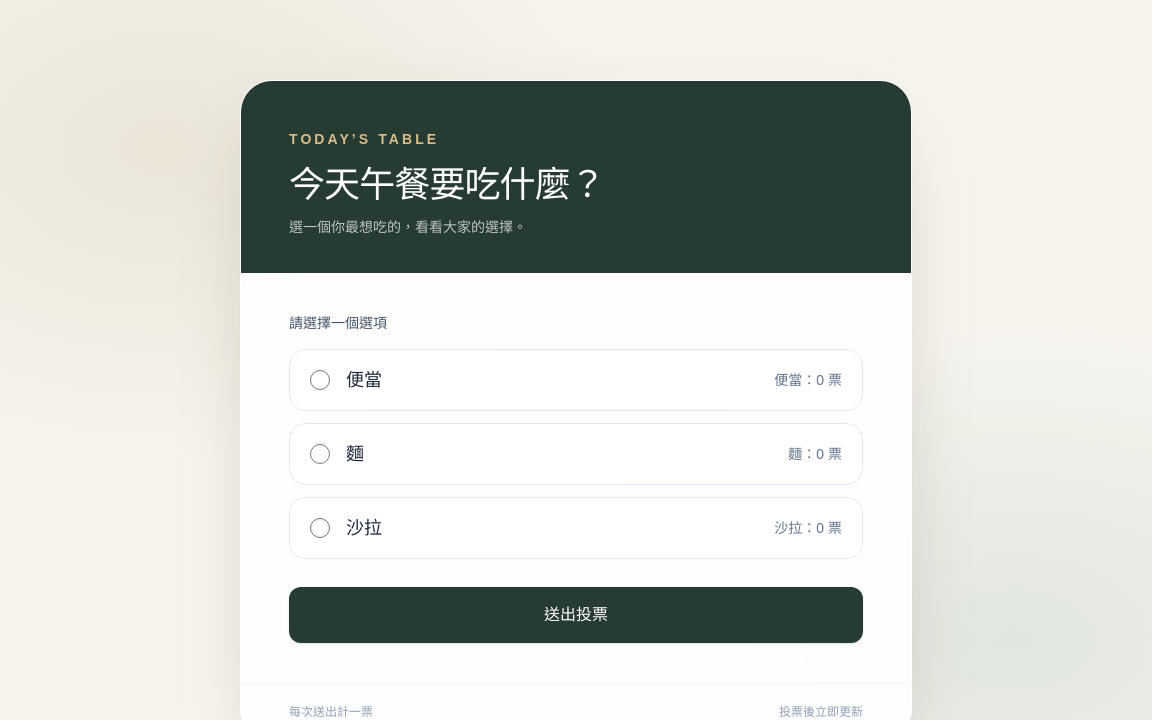
Test: poll input validation › rejects an empty submission without sending it and clears the error on recovery
Expected: the radio button labelled "便當 便當：0 票" is shown, [310,370,330,390]
Click the button "送出投票". click: (576, 615)
box: [289,587,863,643]
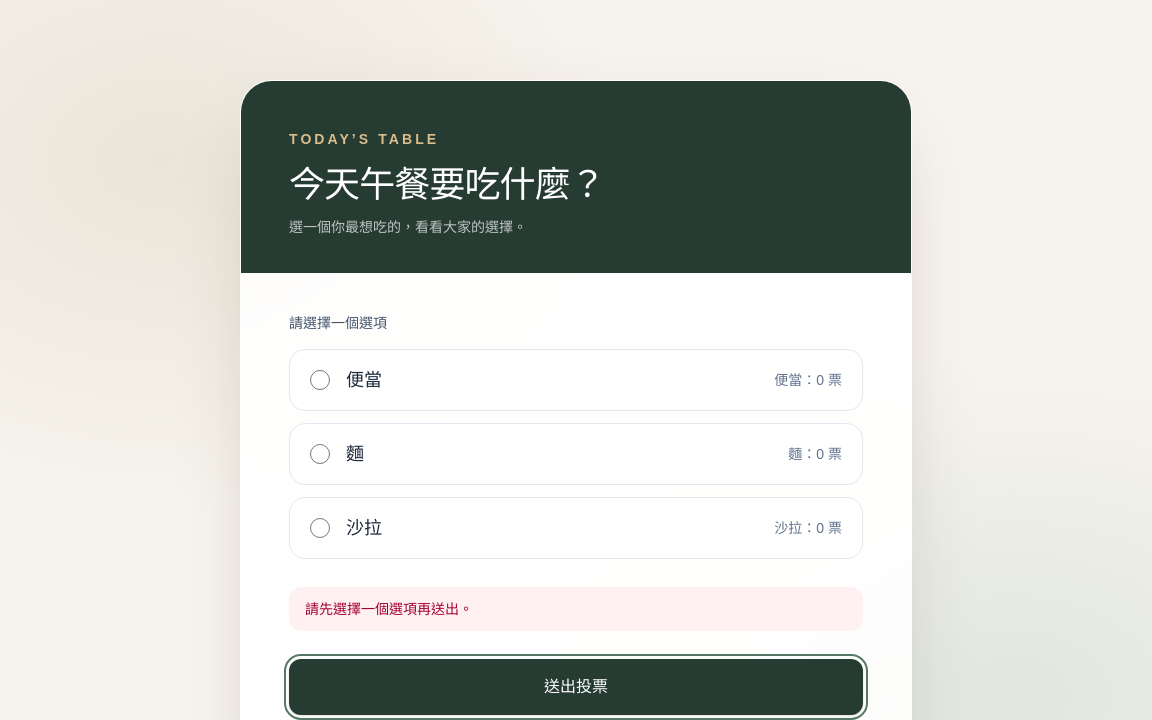
Expected: the text "便當：0 票" is shown, [774,370,842,390]
Expected: the message reads "請先選擇一個選項再送出。", [305,601,473,617]
Click the radio button labelled "便當 便當：0 票". click: (320, 380)
box: [310,370,330,390]
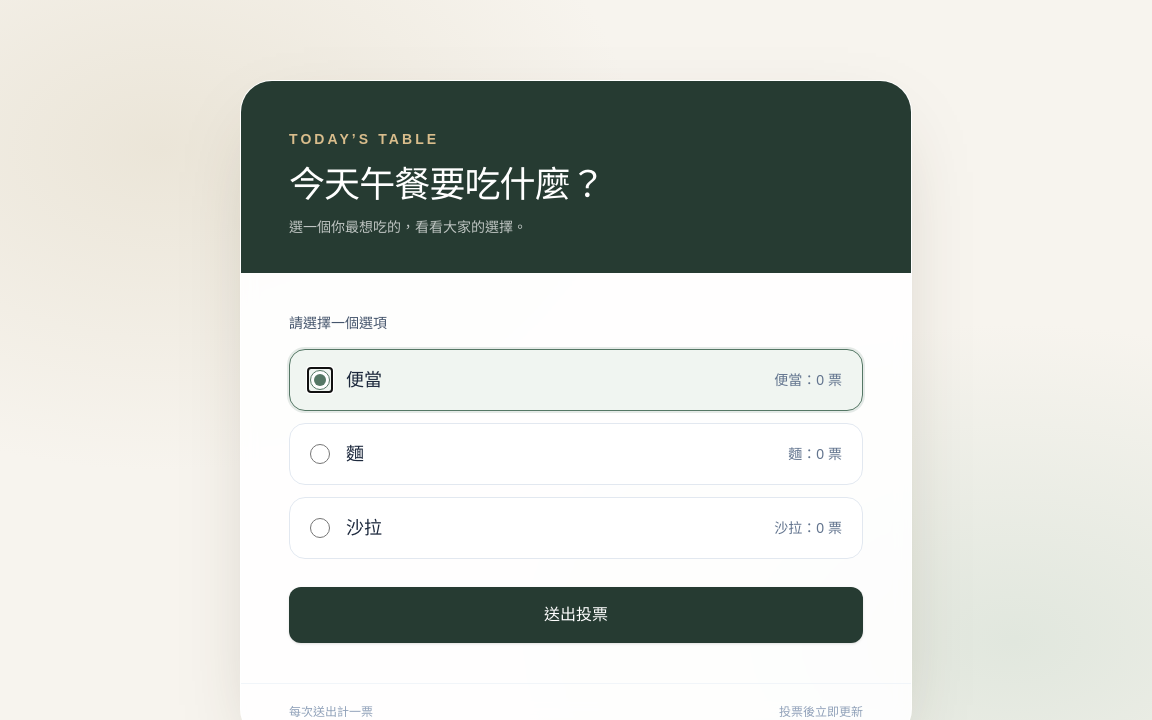
Expected: the message "請先選擇一個選項再送出。" is gone
Click the button "送出投票". click: (576, 615)
box: [289,587,863,643]
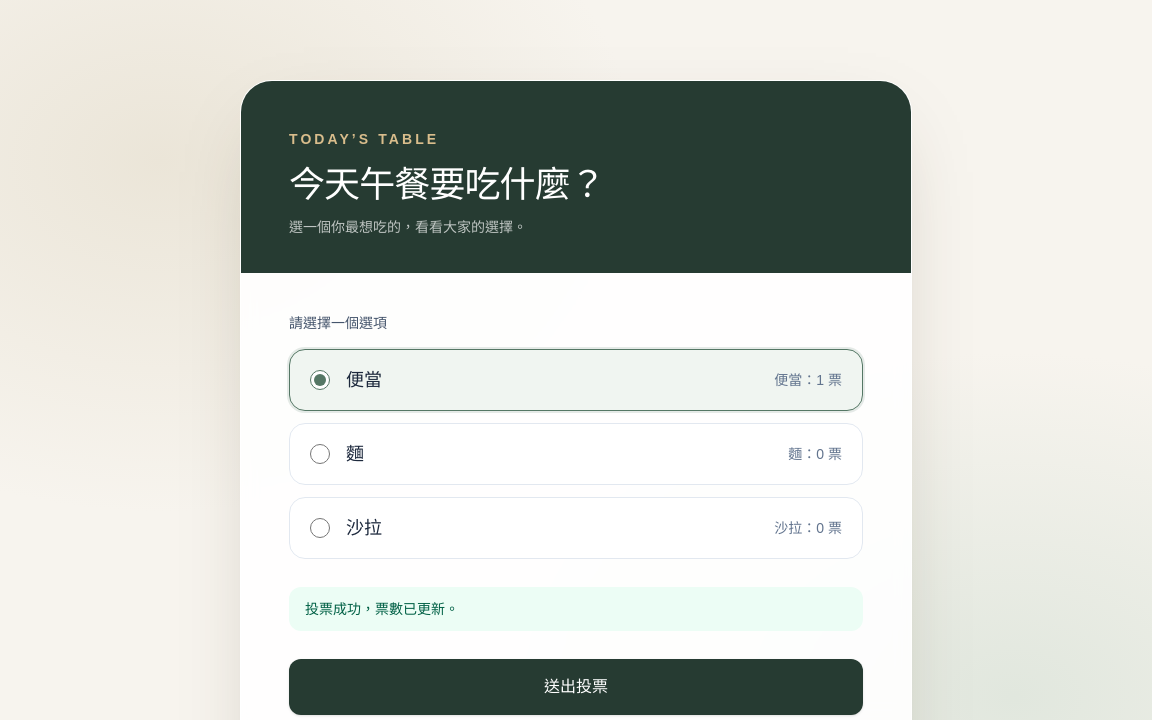
Expected: the text "麵：0 票" is shown, [788,444,842,464]
Expected: the text "便當：1 票" is shown, [774,370,842,390]
